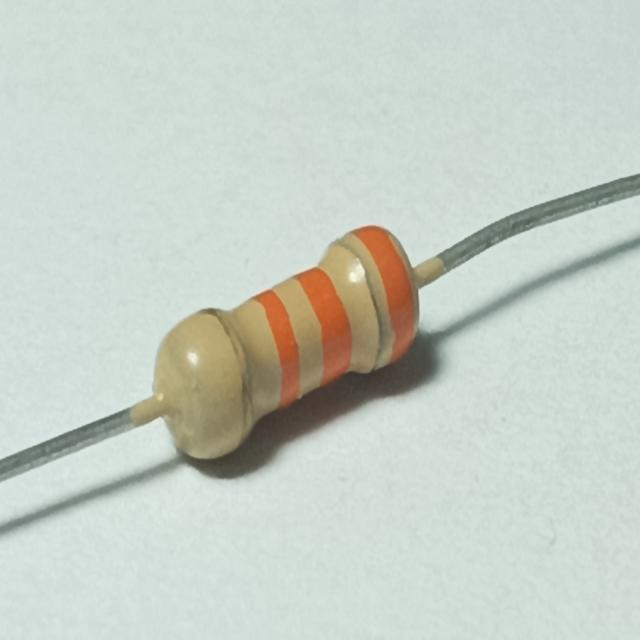33k ohms: (128, 218, 430, 478)
